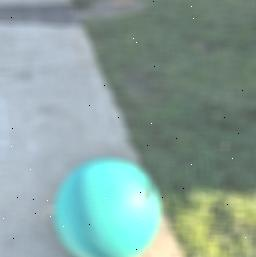algae: (52, 155, 160, 257)
